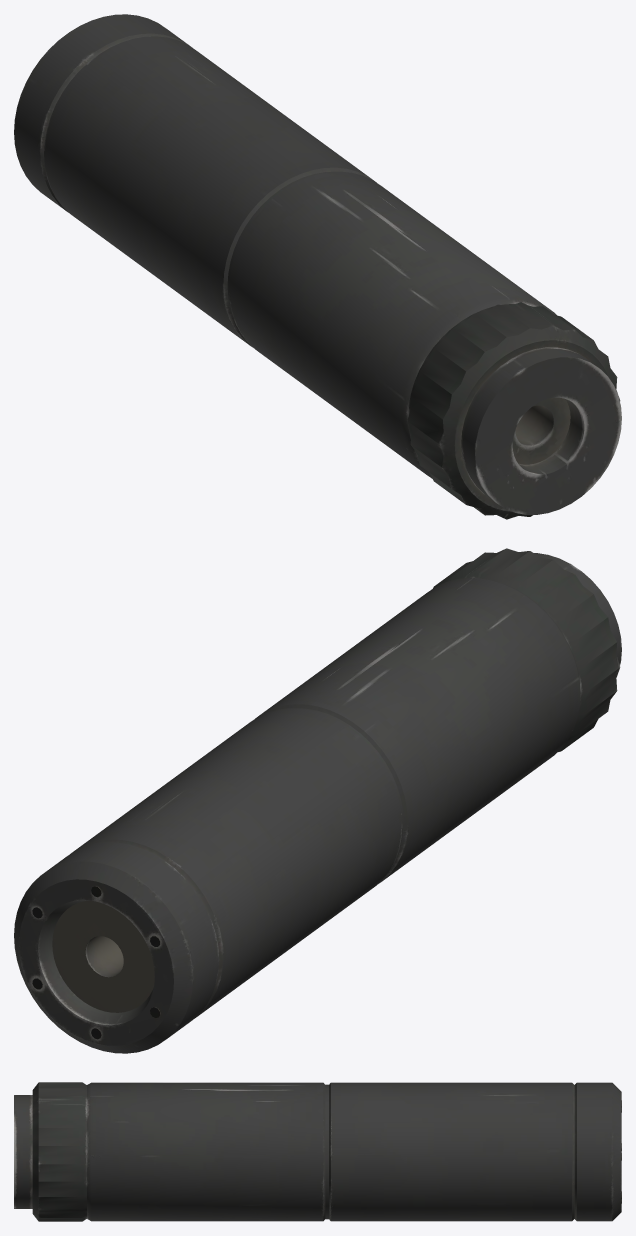
The model's file is supressor_762_gasto.glb.
3 views of the same model, one above another, from view 1: azimuth 30°, elevation 25°; view 2: azimuth 150°, elevation 25°; view 3: azimuth 270°, elevation 25° (orthographic). The views are drawn at different scales.
Parts seen in each view (by area): view 1: supressor_762_gasto_boca; view 2: supressor_762_gasto_boca; view 3: supressor_762_gasto_boca.
Boxes of the visible parts, x1,y1,x2,y2 form: supressor_762_gasto_boca: [14, 14, 621, 519]; supressor_762_gasto_boca: [14, 548, 621, 1053]; supressor_762_gasto_boca: [14, 1082, 621, 1221].
Size of the model in its own units: 0.0452 by 0.0452 by 0.1961.
1 material, 1 textured.
